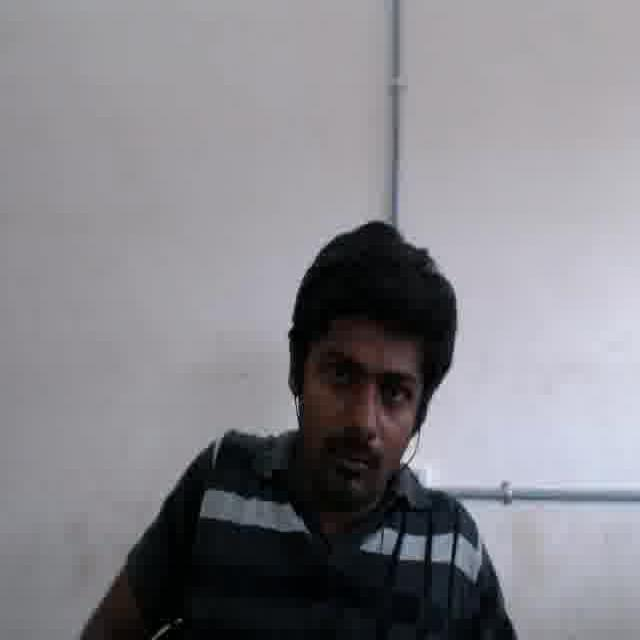Engaged: (299, 315, 416, 508)
